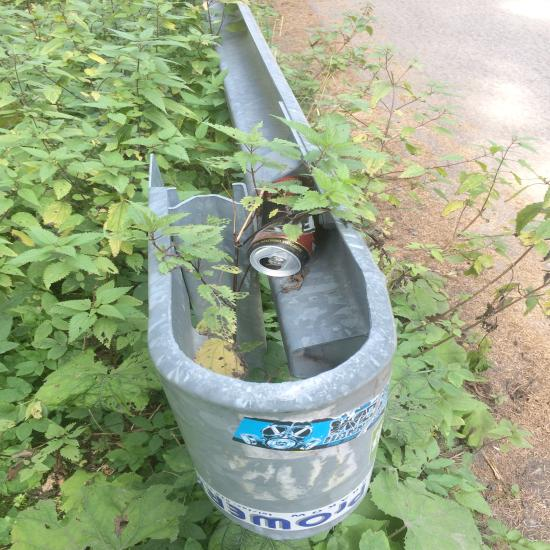Drink can: (247, 176, 320, 277)
Pop tab: (268, 256, 286, 265)
